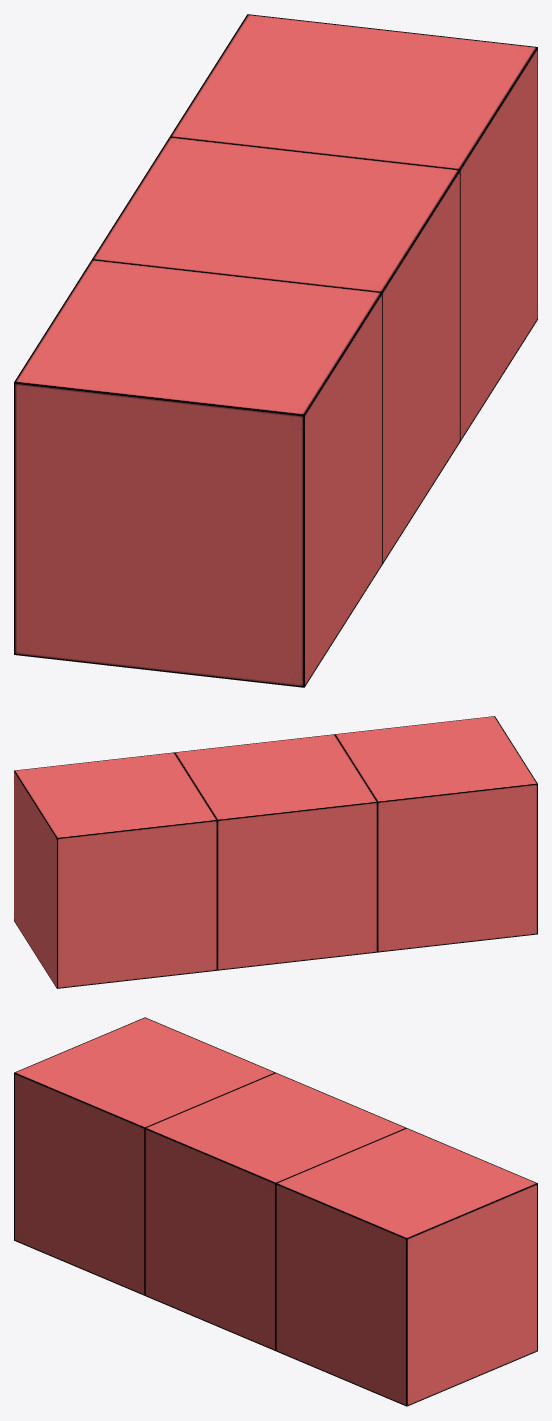
File: 3blocks.glb
The picture shows the model from 3 angles, top to bottom: view 1: azimuth 30°, elevation 25°; view 2: azimuth 150°, elevation 25°; view 3: azimuth 270°, elevation 25°; orthographic projection. The views are drawn at different scales.
Visible parts, largest first — view 1: Block (×3); view 2: Block (×3); view 3: Block (×3).
Part boxes in pixels (left/top/right/bottom): Block (×3): left=14, top=14, right=537, bottom=687; Block (×3): left=14, top=716, right=537, bottom=988; Block (×3): left=14, top=1017, right=537, bottom=1406.
Bounding box in the file's own units: 2.83 × 1 × 2.83.
1 material, 1 textured.
